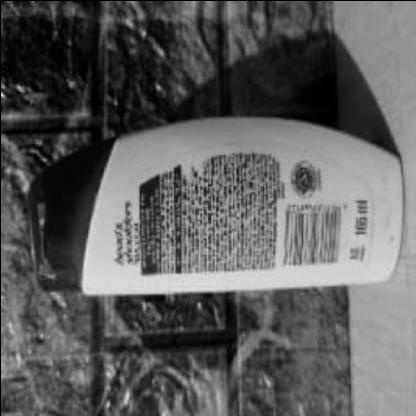objects: (19, 112, 402, 297)
